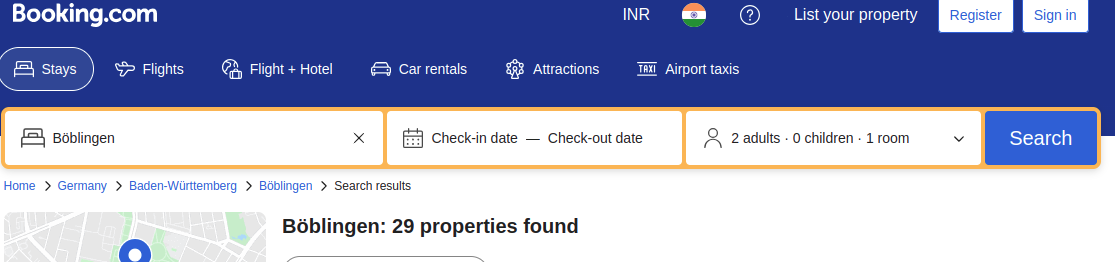menu-bar: (4, 5, 1109, 99)
